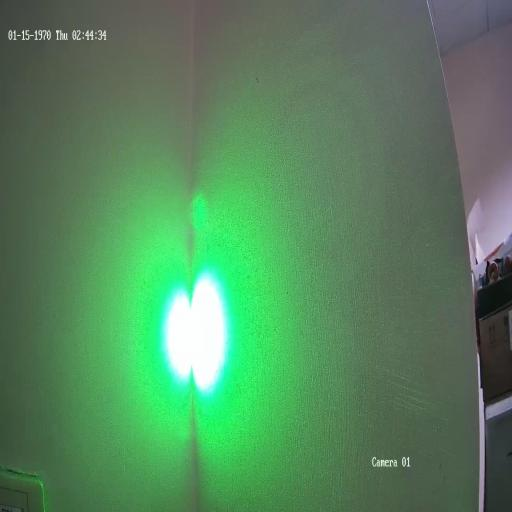laser: (153, 231, 246, 409)
